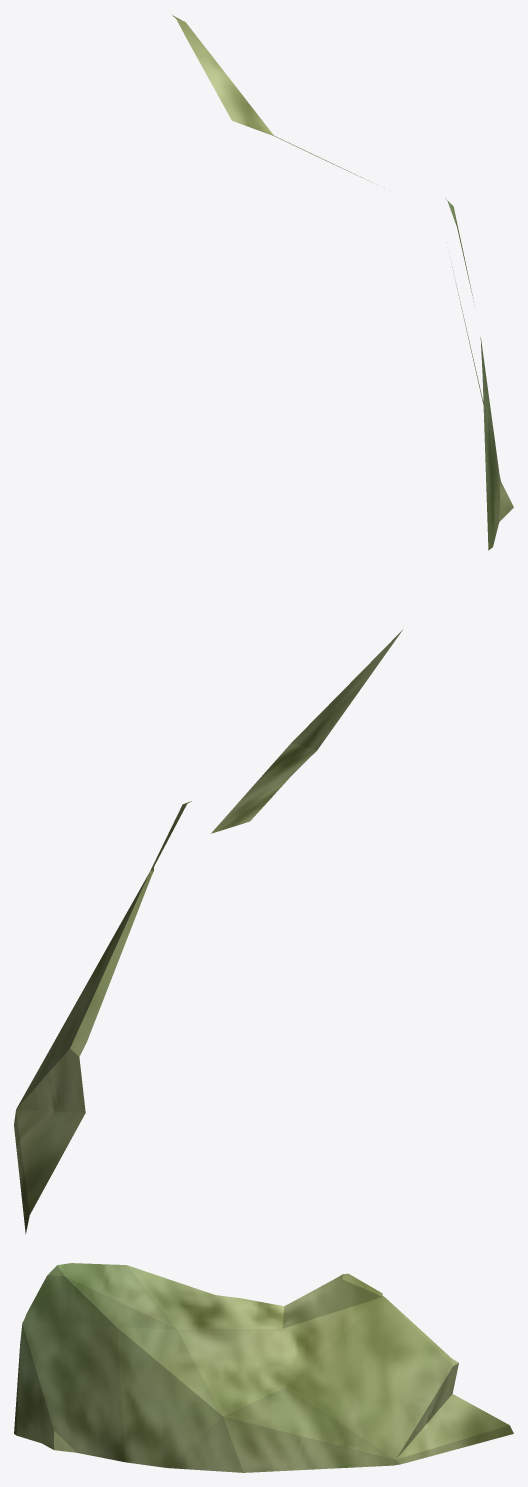
3 views of the same model, one above another, from view 1: azimuth 30°, elevation 25°; view 2: azimuth 150°, elevation 25°; view 3: azimuth 270°, elevation 25° (orthographic). The views are drawn at different scales.
Size of the model in its own units: 0.2211 by 0.4506 by 1.2.
Materials: 1 (1 with a texture image).
